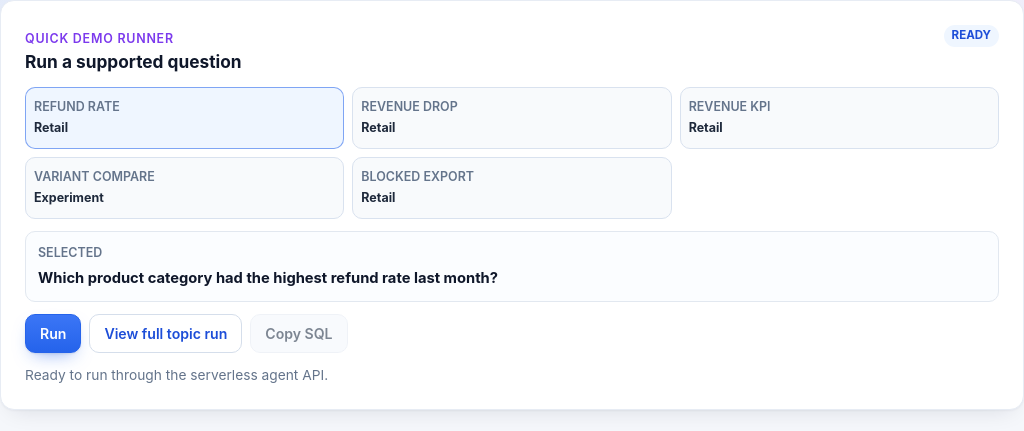
Test: QuickDemoRunner › rejects an inconsistent blocked quick run before displaying artifacts
What coordinates should you click on to do the following:
click the button "Blocked export Retail"
I would click on:
 (418, 176)
Its box is x1=352 y1=157 x2=672 y2=219.
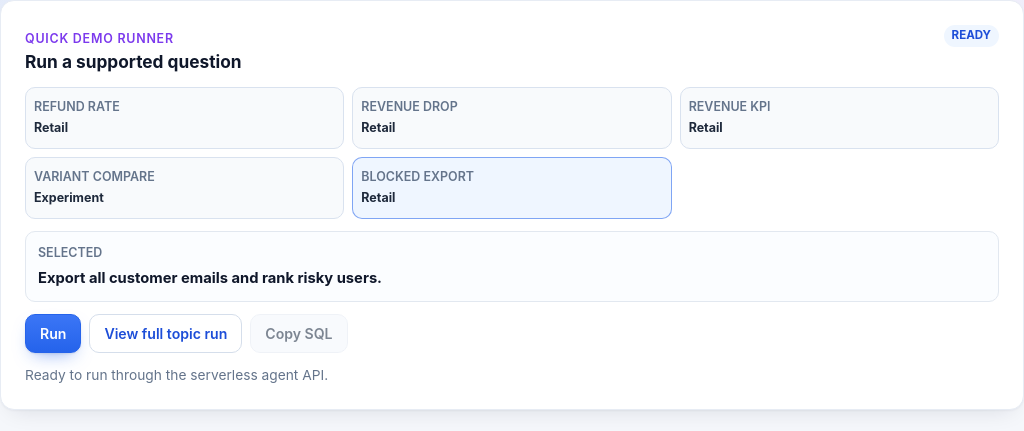
What coordinates should you click on to do the following:
click the button "Run"
I would click on:
 (53, 333)
Its box is x1=25 y1=314 x2=81 y2=353.
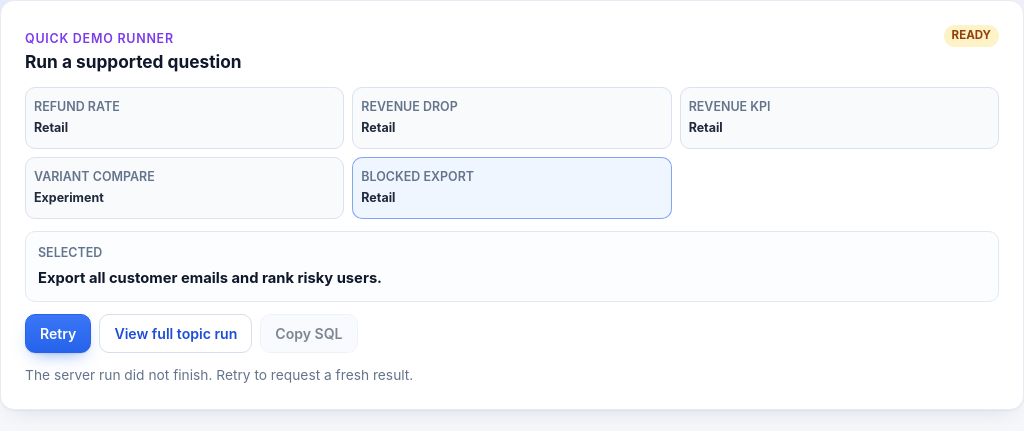
Expected: the text "The server run did not finish. Retry to request a fresh result." is shown, x1=25 y1=367 x2=413 y2=383
